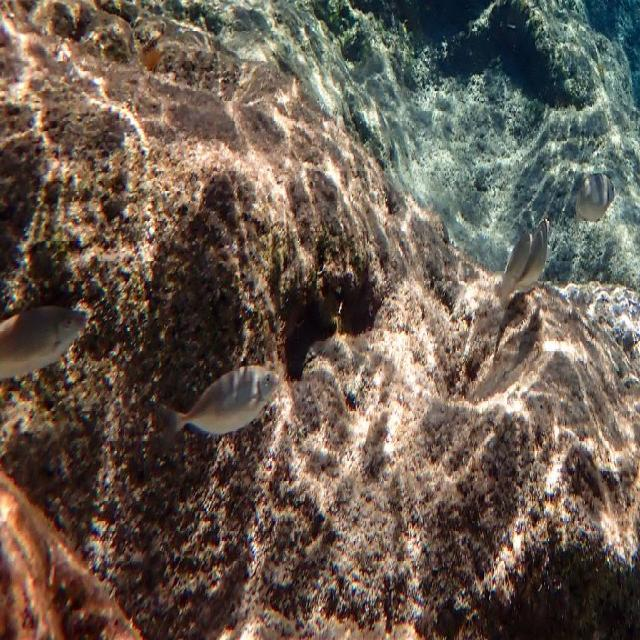Sokar Baligi: (154, 356, 285, 464), (570, 162, 627, 234)
